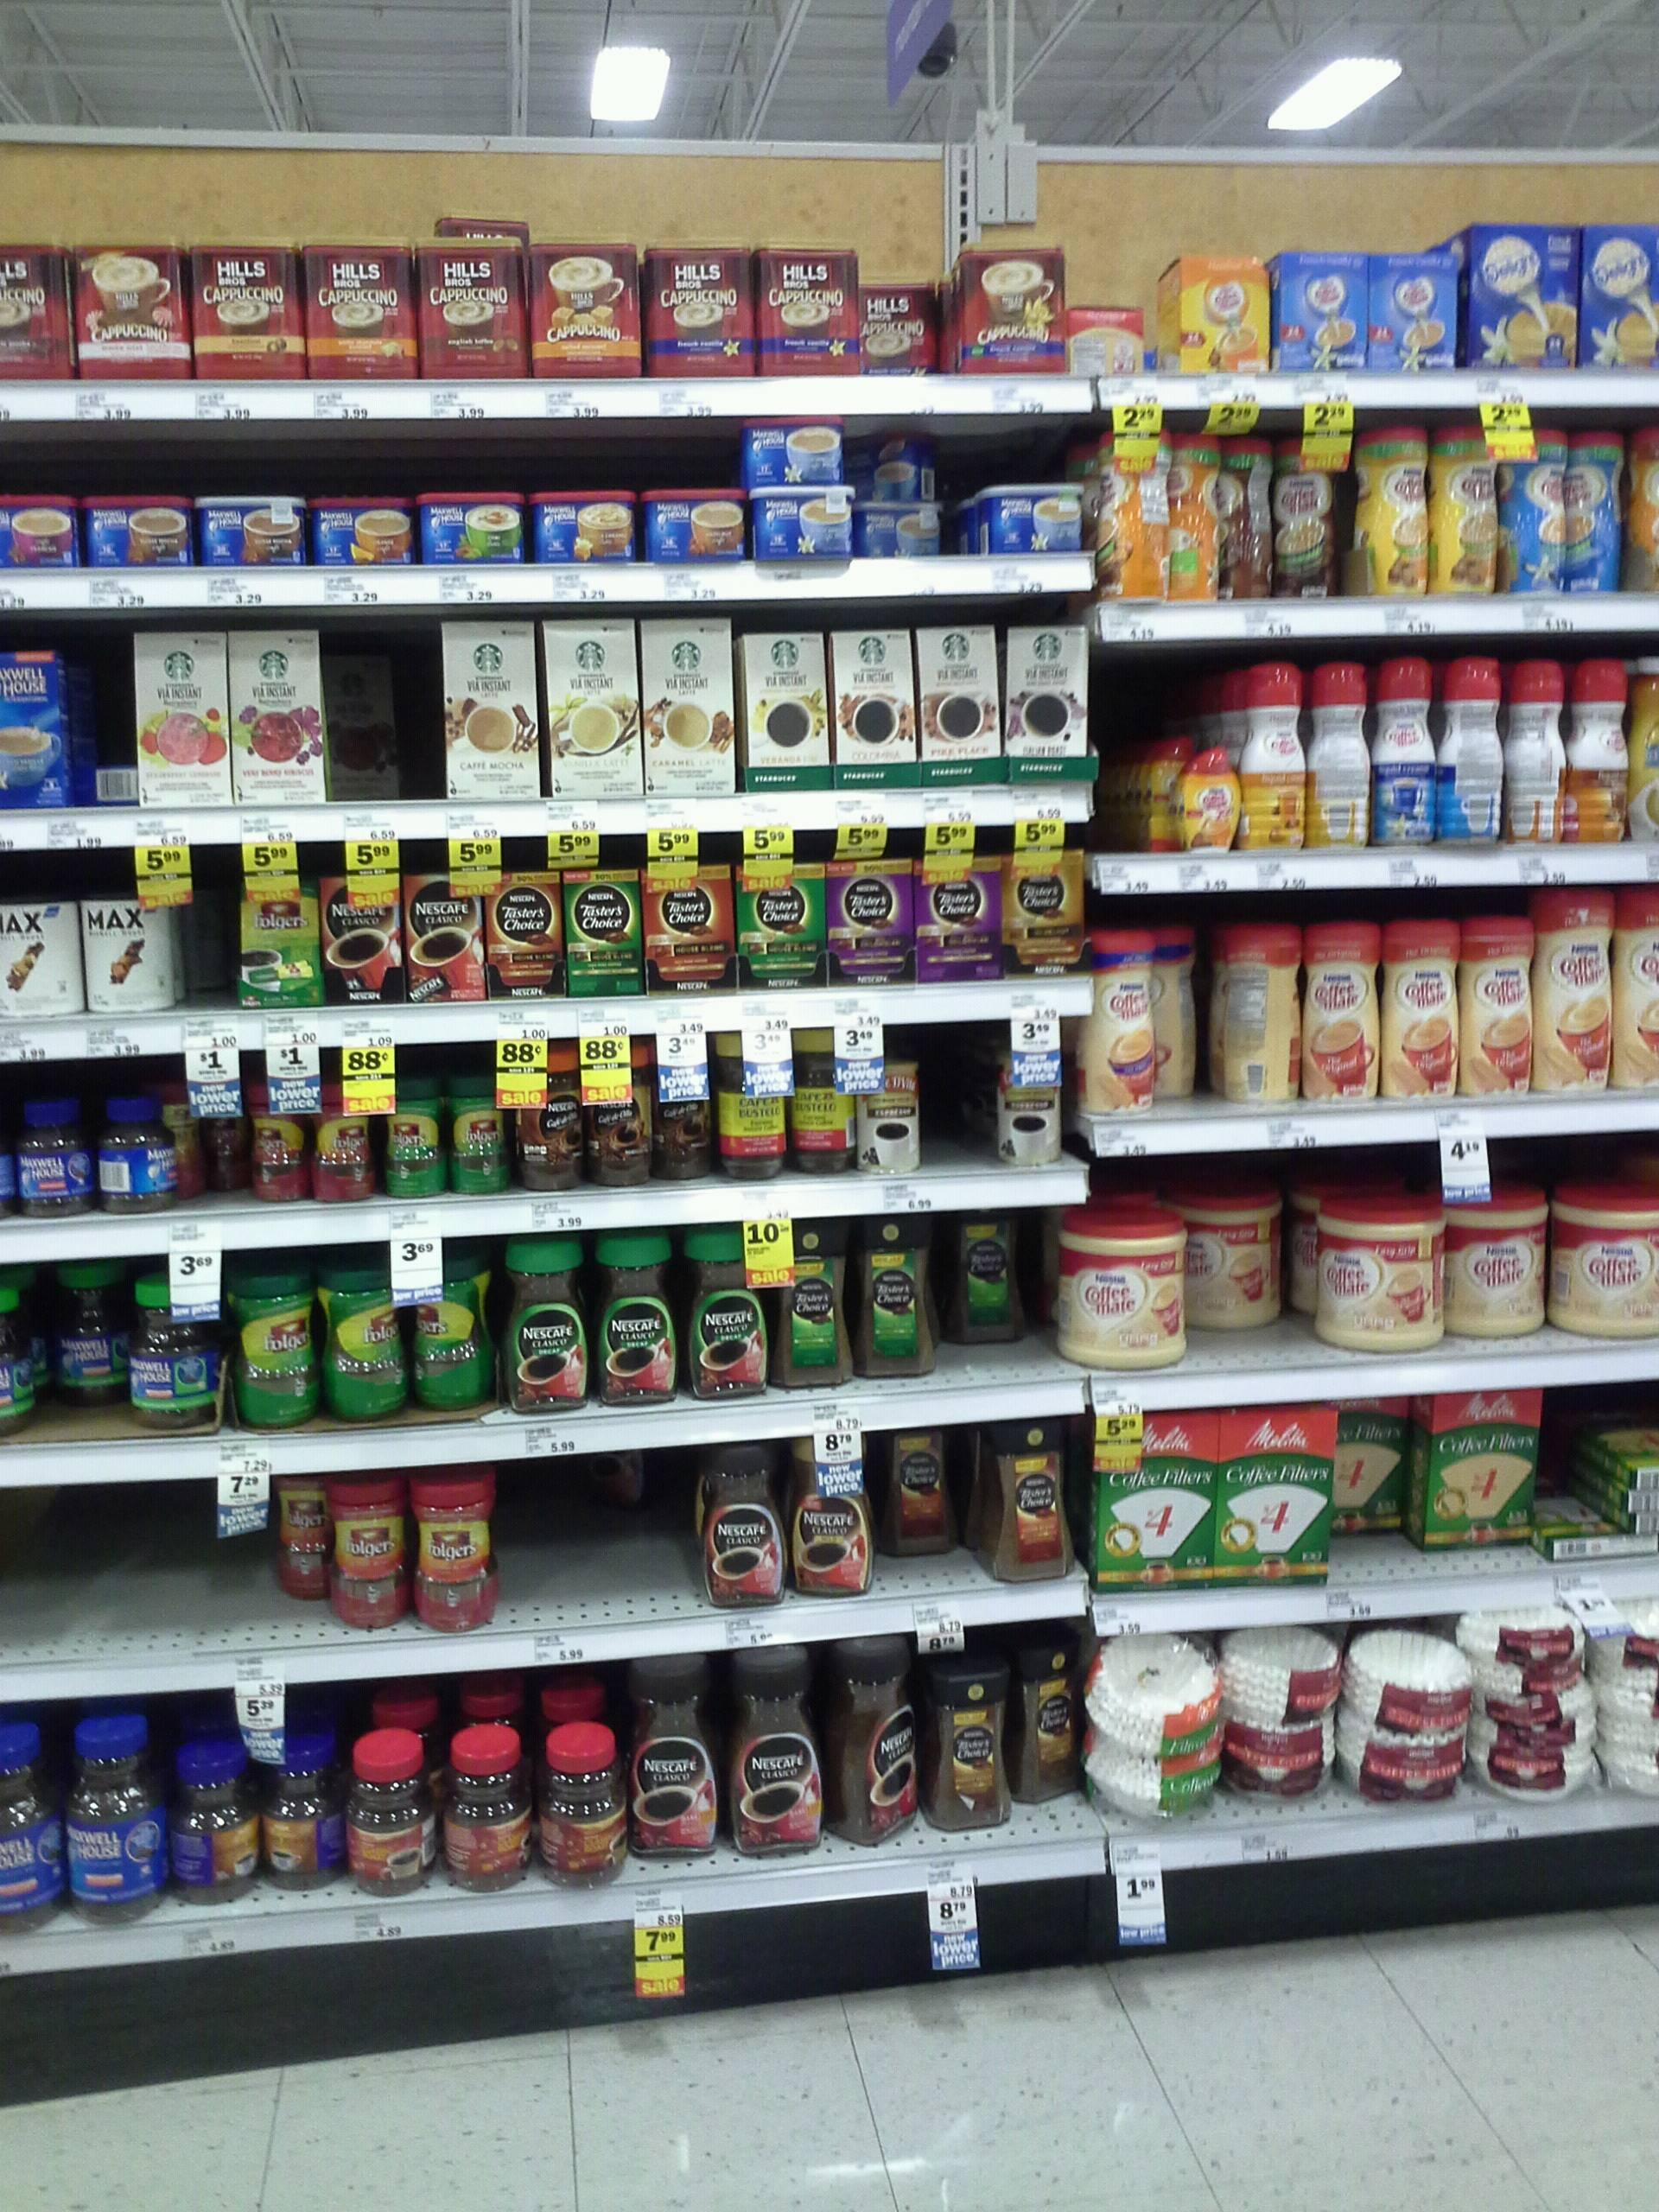empty: (329, 634, 439, 799), (0, 1496, 110, 1662), (112, 1519, 206, 1662), (592, 1475, 685, 1620), (206, 1519, 298, 1662), (493, 1480, 586, 1623), (931, 1263, 1049, 1372), (929, 1052, 1000, 1167), (1093, 740, 1164, 855)
